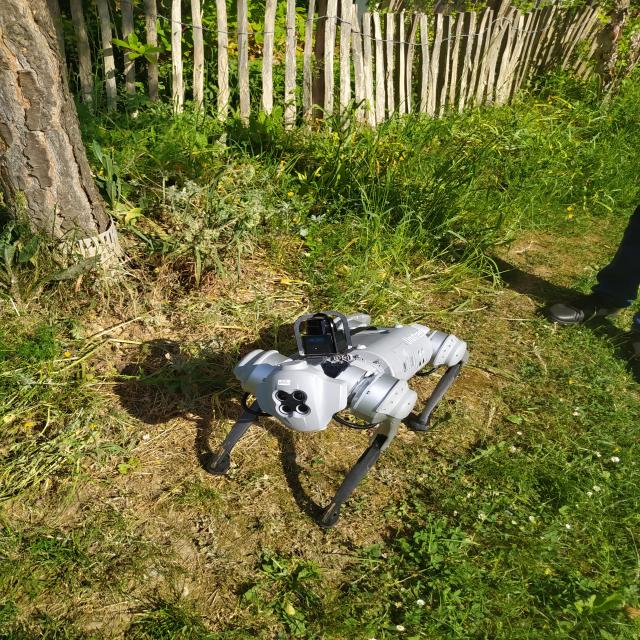unitree-go1-robot: (217, 308, 468, 524)
